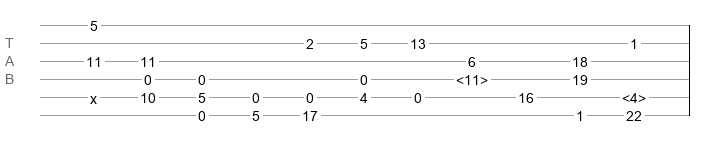0: (144, 72, 152, 82), (198, 72, 206, 82), (198, 108, 206, 118), (252, 90, 260, 100), (306, 90, 314, 100), (360, 72, 368, 82), (414, 90, 422, 100)
1: (576, 108, 584, 118), (630, 36, 638, 46)
10: (140, 90, 156, 100)
11: (86, 54, 102, 64), (140, 54, 156, 64)
13: (410, 36, 426, 46)
16: (518, 90, 534, 100)
17: (302, 108, 318, 118)
18: (572, 54, 588, 64)
19: (572, 72, 588, 82)
2: (306, 36, 314, 46)
22: (626, 108, 642, 118)
4: (360, 90, 368, 100)
5: (90, 18, 98, 28), (198, 90, 206, 100), (252, 108, 260, 118), (360, 36, 368, 46)
6: (468, 54, 476, 64)
harmonic: (456, 72, 488, 82), (622, 90, 646, 100)
x: (90, 91, 97, 99)
